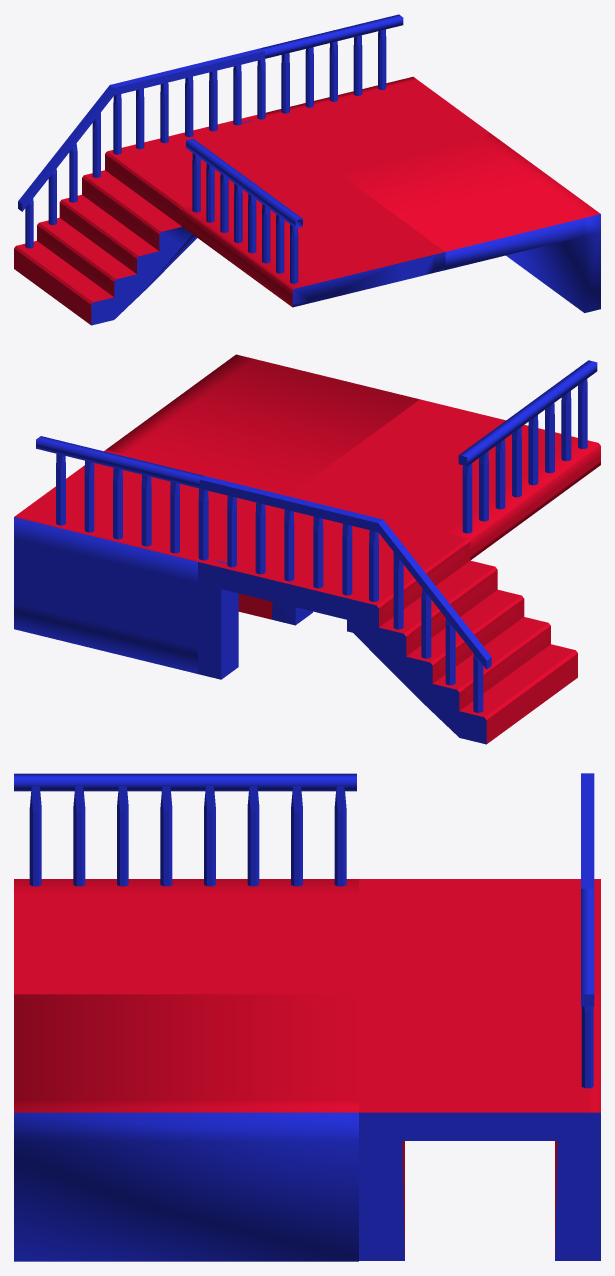
File: porchStairs2.fbx
3 renders of one model, top to bottom at view 1: azimuth 30°, elevation 25°; view 2: azimuth 150°, elevation 25°; view 3: azimuth 270°, elevation 25°, orthographic. The views are drawn at different scales.
Visible parts, largest first — view 1: Cube.002; view 2: Cube.002; view 3: Cube.002.
Part boxes in pixels (x1,y1,x2,y2): Cube.002: (14,14,600,325); Cube.002: (14,354,600,744); Cube.002: (14,773,600,1261).
Size of the model in its own units: 664 by 259 by 541.
